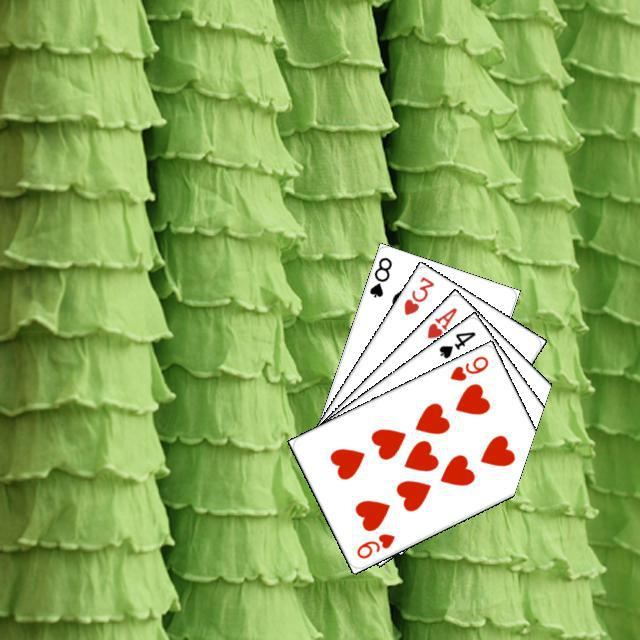3h: (399, 271, 436, 317)
4s: (434, 326, 477, 360)
8s: (364, 252, 394, 299)
9h: (351, 528, 397, 560), (445, 351, 490, 383)
Ah: (422, 302, 459, 340)
